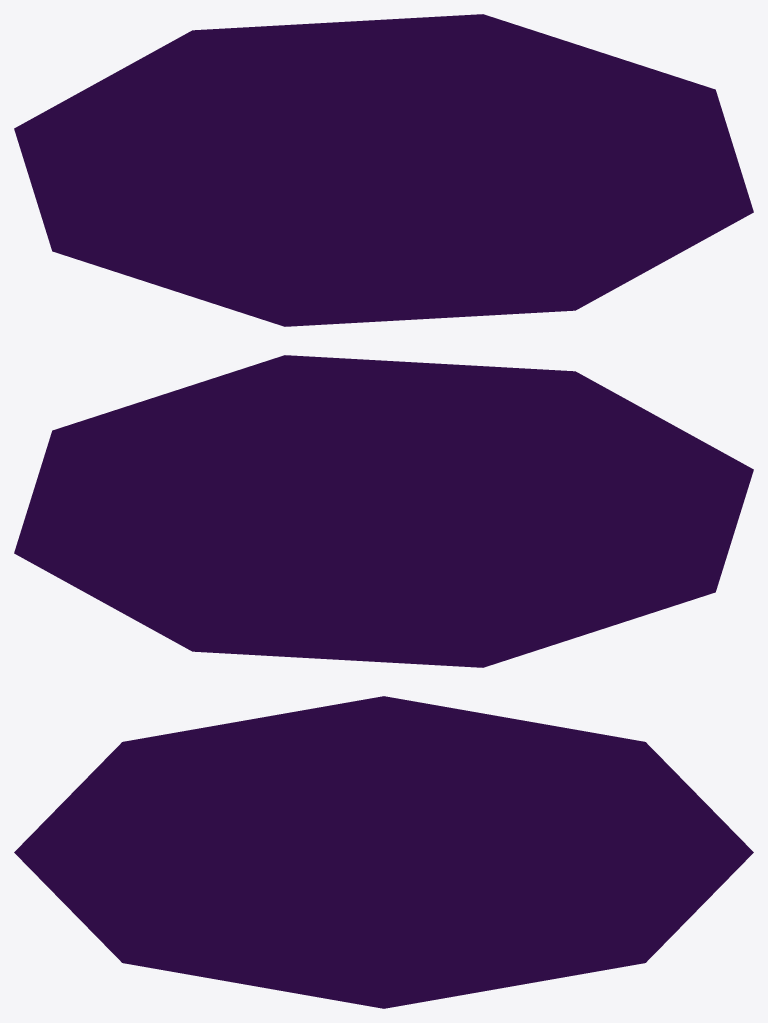
File: swampWaterBottom.fbx
3 renders of one model, top to bottom at view 1: azimuth 30°, elevation 25°; view 2: azimuth 150°, elevation 25°; view 3: azimuth 270°, elevation 25°, orthographic. The views are drawn at different scales.
Visible parts, largest first — view 1: watetBottom; view 2: watetBottom; view 3: watetBottom.
Part boxes in pixels (<box>): watetBottom: <box>14,14,753,326</box>; watetBottom: <box>14,355,753,667</box>; watetBottom: <box>14,696,753,1008</box>.
Bounding box in the file's own units: 1404 × 0.000229 × 1404.
